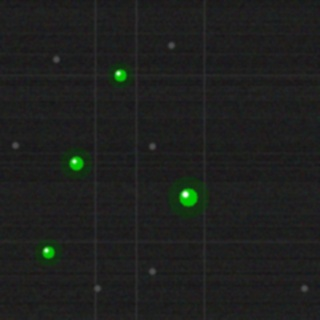green_normal: (177, 186, 199, 208), (67, 154, 85, 172), (40, 244, 56, 260), (112, 67, 128, 83)
